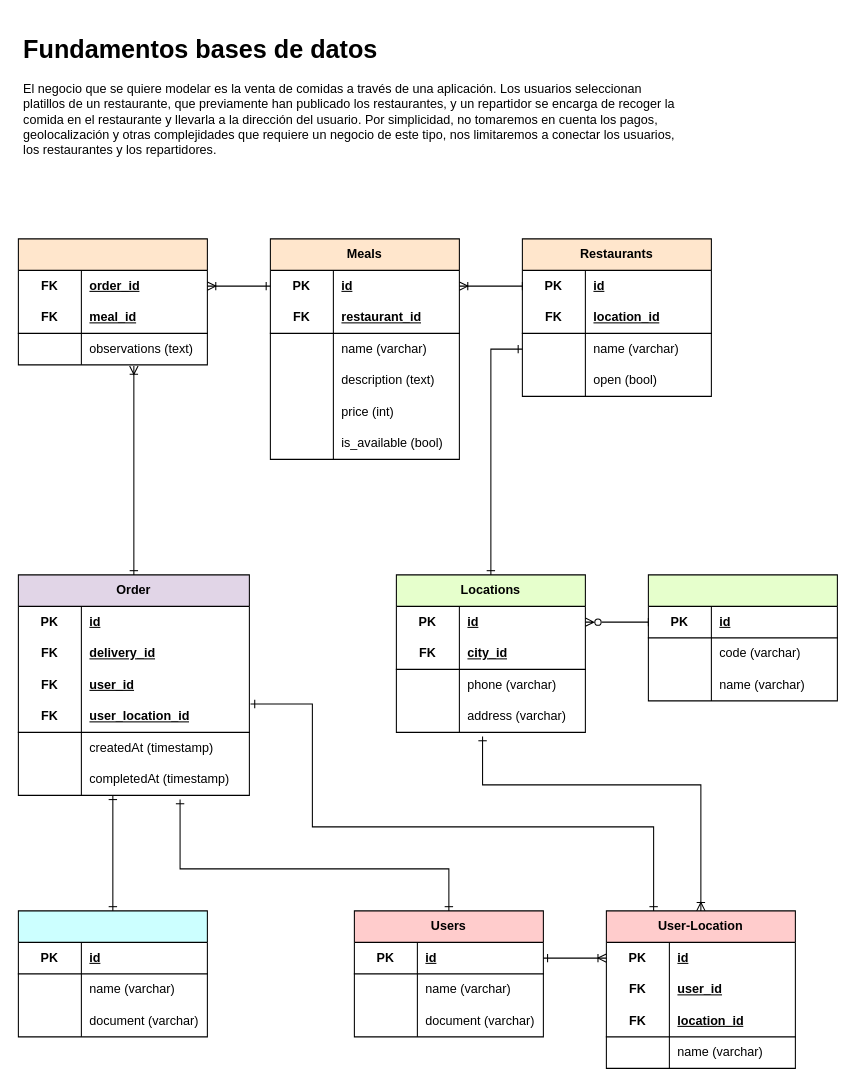
Image size: 856x1087. Some labels were removed from this diagram. The shapes that lost their labels are listed below. From the top down, each one's box as (x1, y1, x2, y2) in pixels, then its label:
(17, 238, 207, 365): Order-Meal
(647, 574, 837, 701): Cities
(17, 910, 207, 1037): Deliveries
